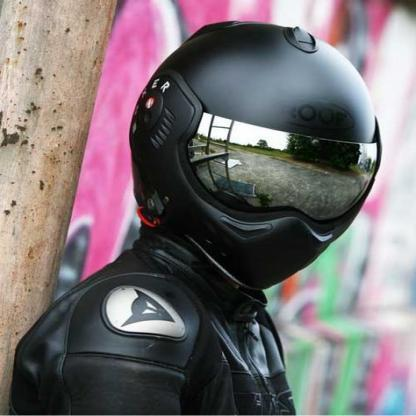helmet: (128, 20, 382, 292)
